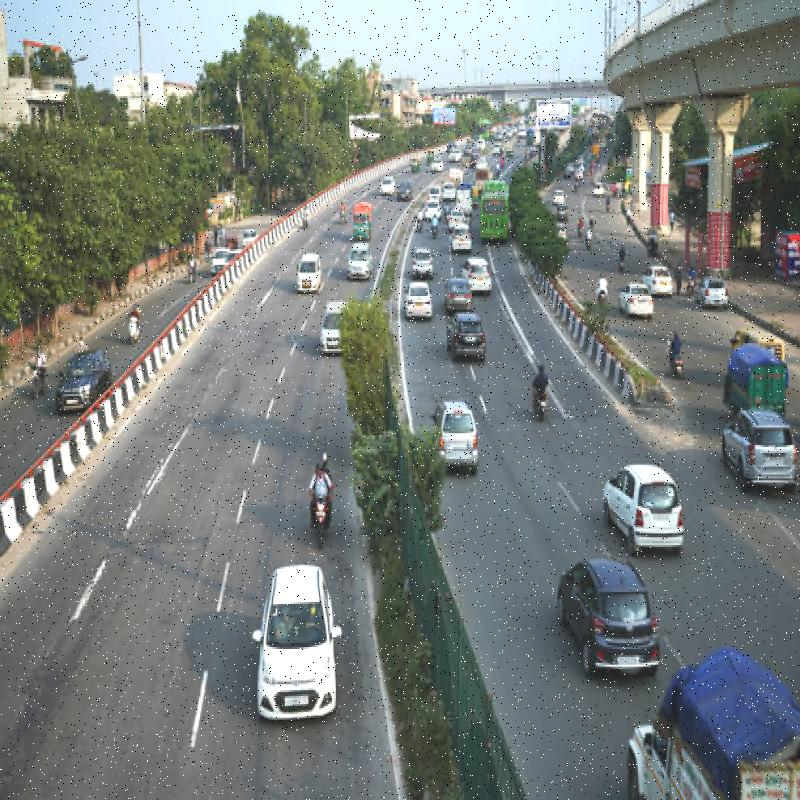bike: (525, 371, 555, 433), (305, 486, 329, 548), (120, 294, 145, 352), (664, 328, 690, 383), (24, 355, 45, 411), (610, 242, 630, 281)
car: (256, 542, 345, 746), (554, 542, 664, 672), (726, 393, 798, 513), (604, 438, 685, 538), (426, 396, 486, 477), (57, 338, 104, 414), (395, 272, 437, 333), (315, 292, 345, 360), (452, 310, 487, 367), (615, 279, 654, 325), (462, 251, 493, 304), (293, 250, 320, 304), (343, 236, 371, 286), (404, 278, 436, 318), (700, 271, 729, 312), (644, 259, 674, 297), (409, 243, 432, 278)
